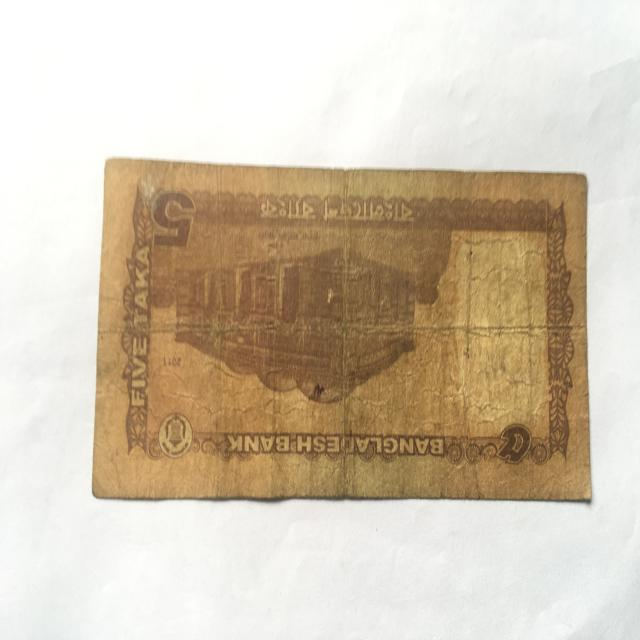Taka: (95, 142, 597, 509)
